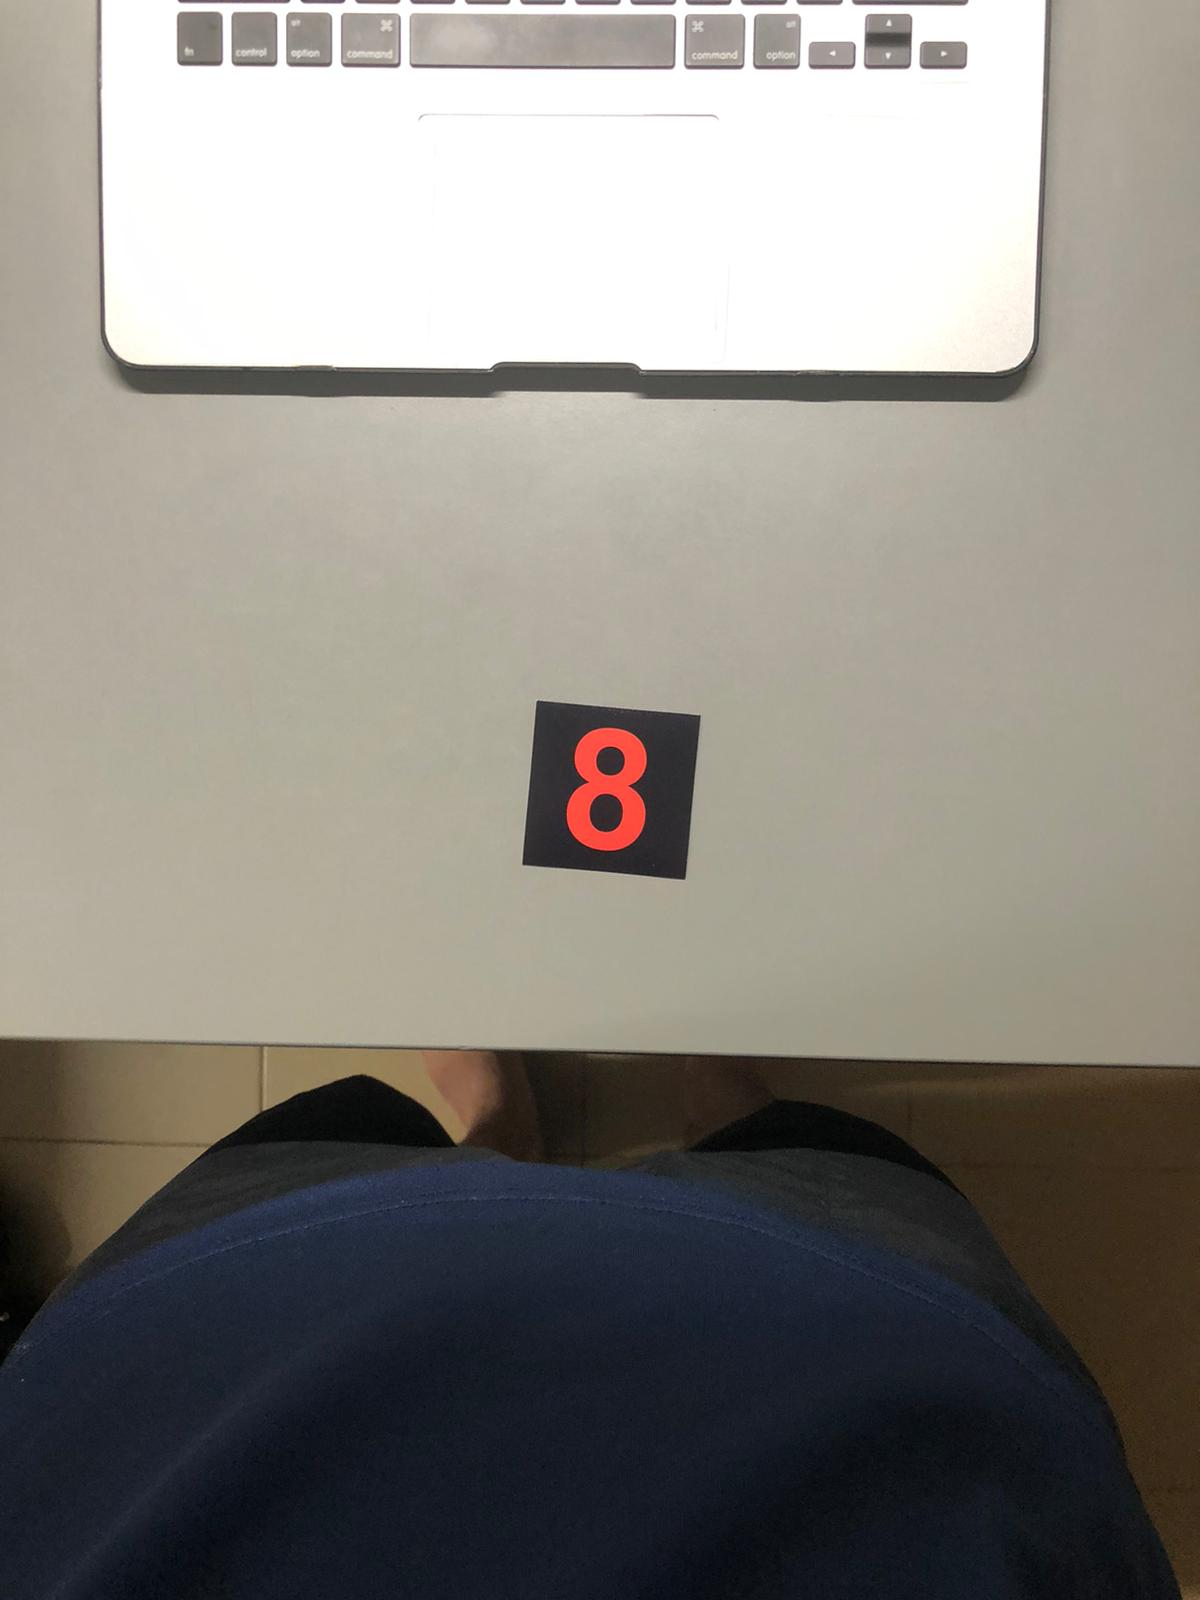Number 8: (524, 698, 701, 877)
